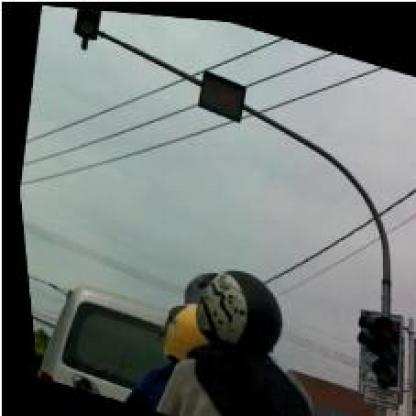red: (358, 307, 402, 382), (70, 6, 110, 38)
